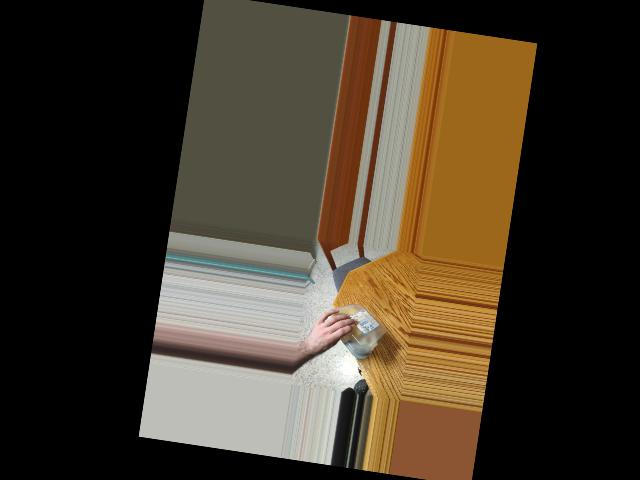cheese: (317, 299, 388, 360)
